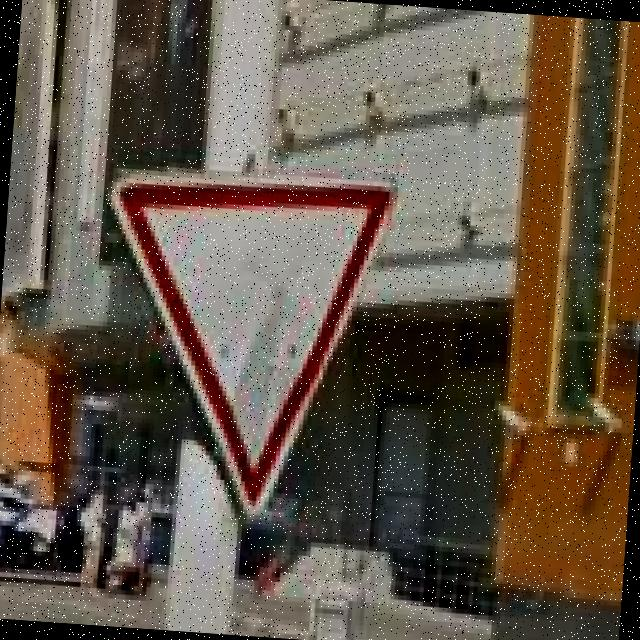Ustap pierwszenstwa: (90, 163, 393, 527)
